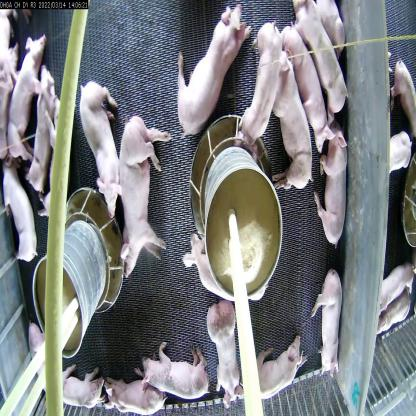Pig: (174, 4, 252, 140), (115, 108, 171, 278), (78, 76, 128, 225), (290, 0, 351, 120), (272, 49, 316, 198), (182, 234, 269, 305), (237, 16, 281, 148), (281, 23, 328, 134), (311, 122, 349, 250), (139, 335, 210, 403), (7, 34, 45, 161), (308, 263, 345, 383), (1, 154, 38, 265), (23, 62, 53, 194), (206, 295, 244, 396), (249, 334, 307, 400), (38, 97, 68, 220), (26, 318, 68, 398), (102, 368, 166, 415), (372, 259, 416, 315), (61, 364, 107, 414), (390, 56, 416, 143), (383, 122, 415, 178), (315, 2, 346, 58), (378, 290, 411, 336)
